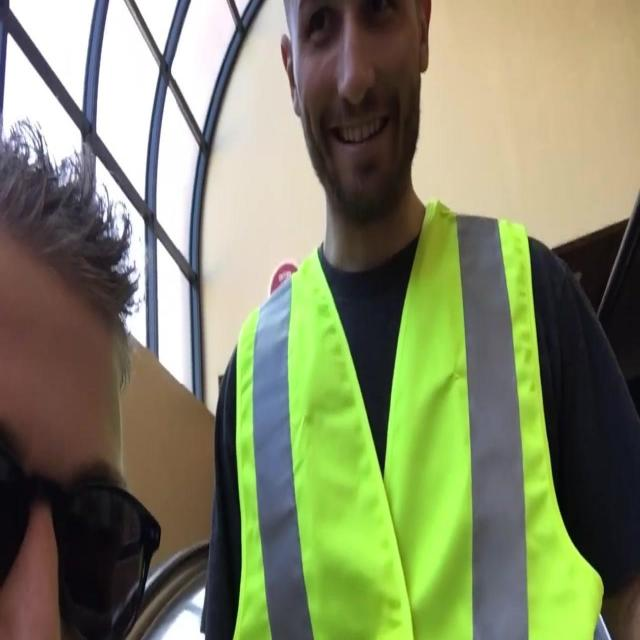Reflective-Jacket: (225, 207, 598, 636)
